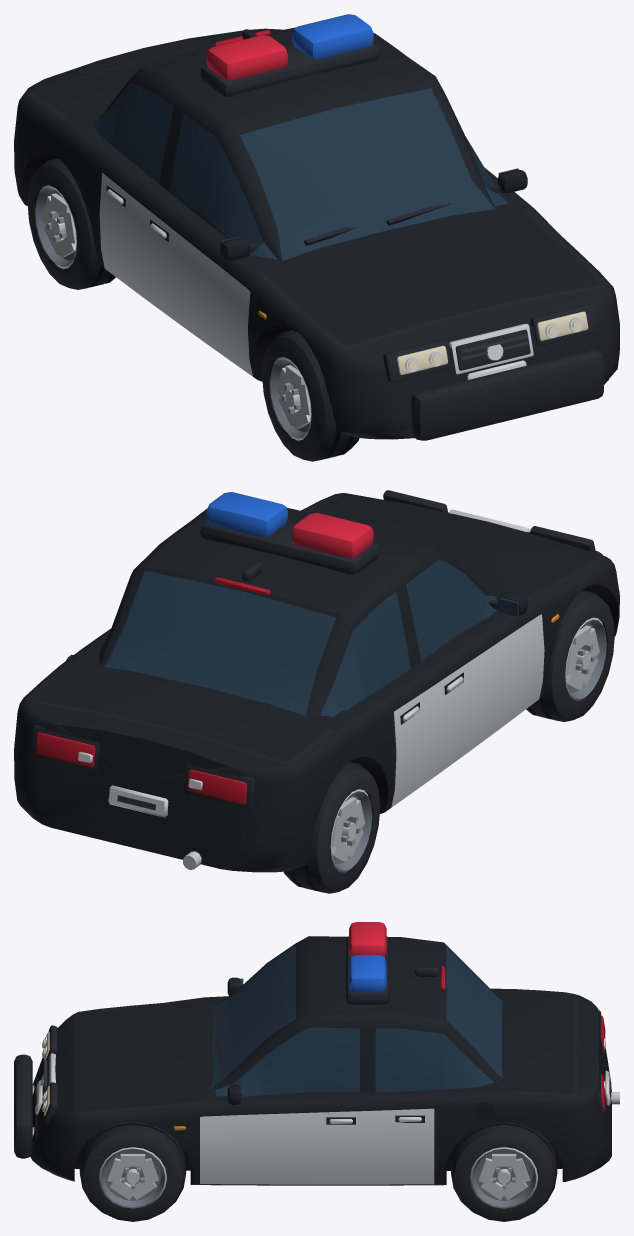
File: special-police.glb
3 renders of one model, top to bottom at view 1: azimuth 30°, elevation 25°; view 2: azimuth 150°, elevation 25°; view 3: azimuth 270°, elevation 25°, orthographic. The views are drawn at different scales.
Parts seen in each view (by area): view 1: police_mesh, police; view 2: police_mesh, police; view 3: police_mesh, police.
Boxes of the visible parts, x1=… form: police_mesh: x1=14, y1=14, x2=619, y2=440; police: x1=27, y1=158, x2=608, y2=461; police_mesh: x1=14, y1=490, x2=619, y2=872; police: x1=283, y1=590, x2=614, y2=893; police_mesh: x1=14, y1=922, x2=619, y2=1185; police: x1=79, y1=1121, x2=557, y2=1221.
Size of the model in its own units: 1.77 by 1.56 by 3.87.
